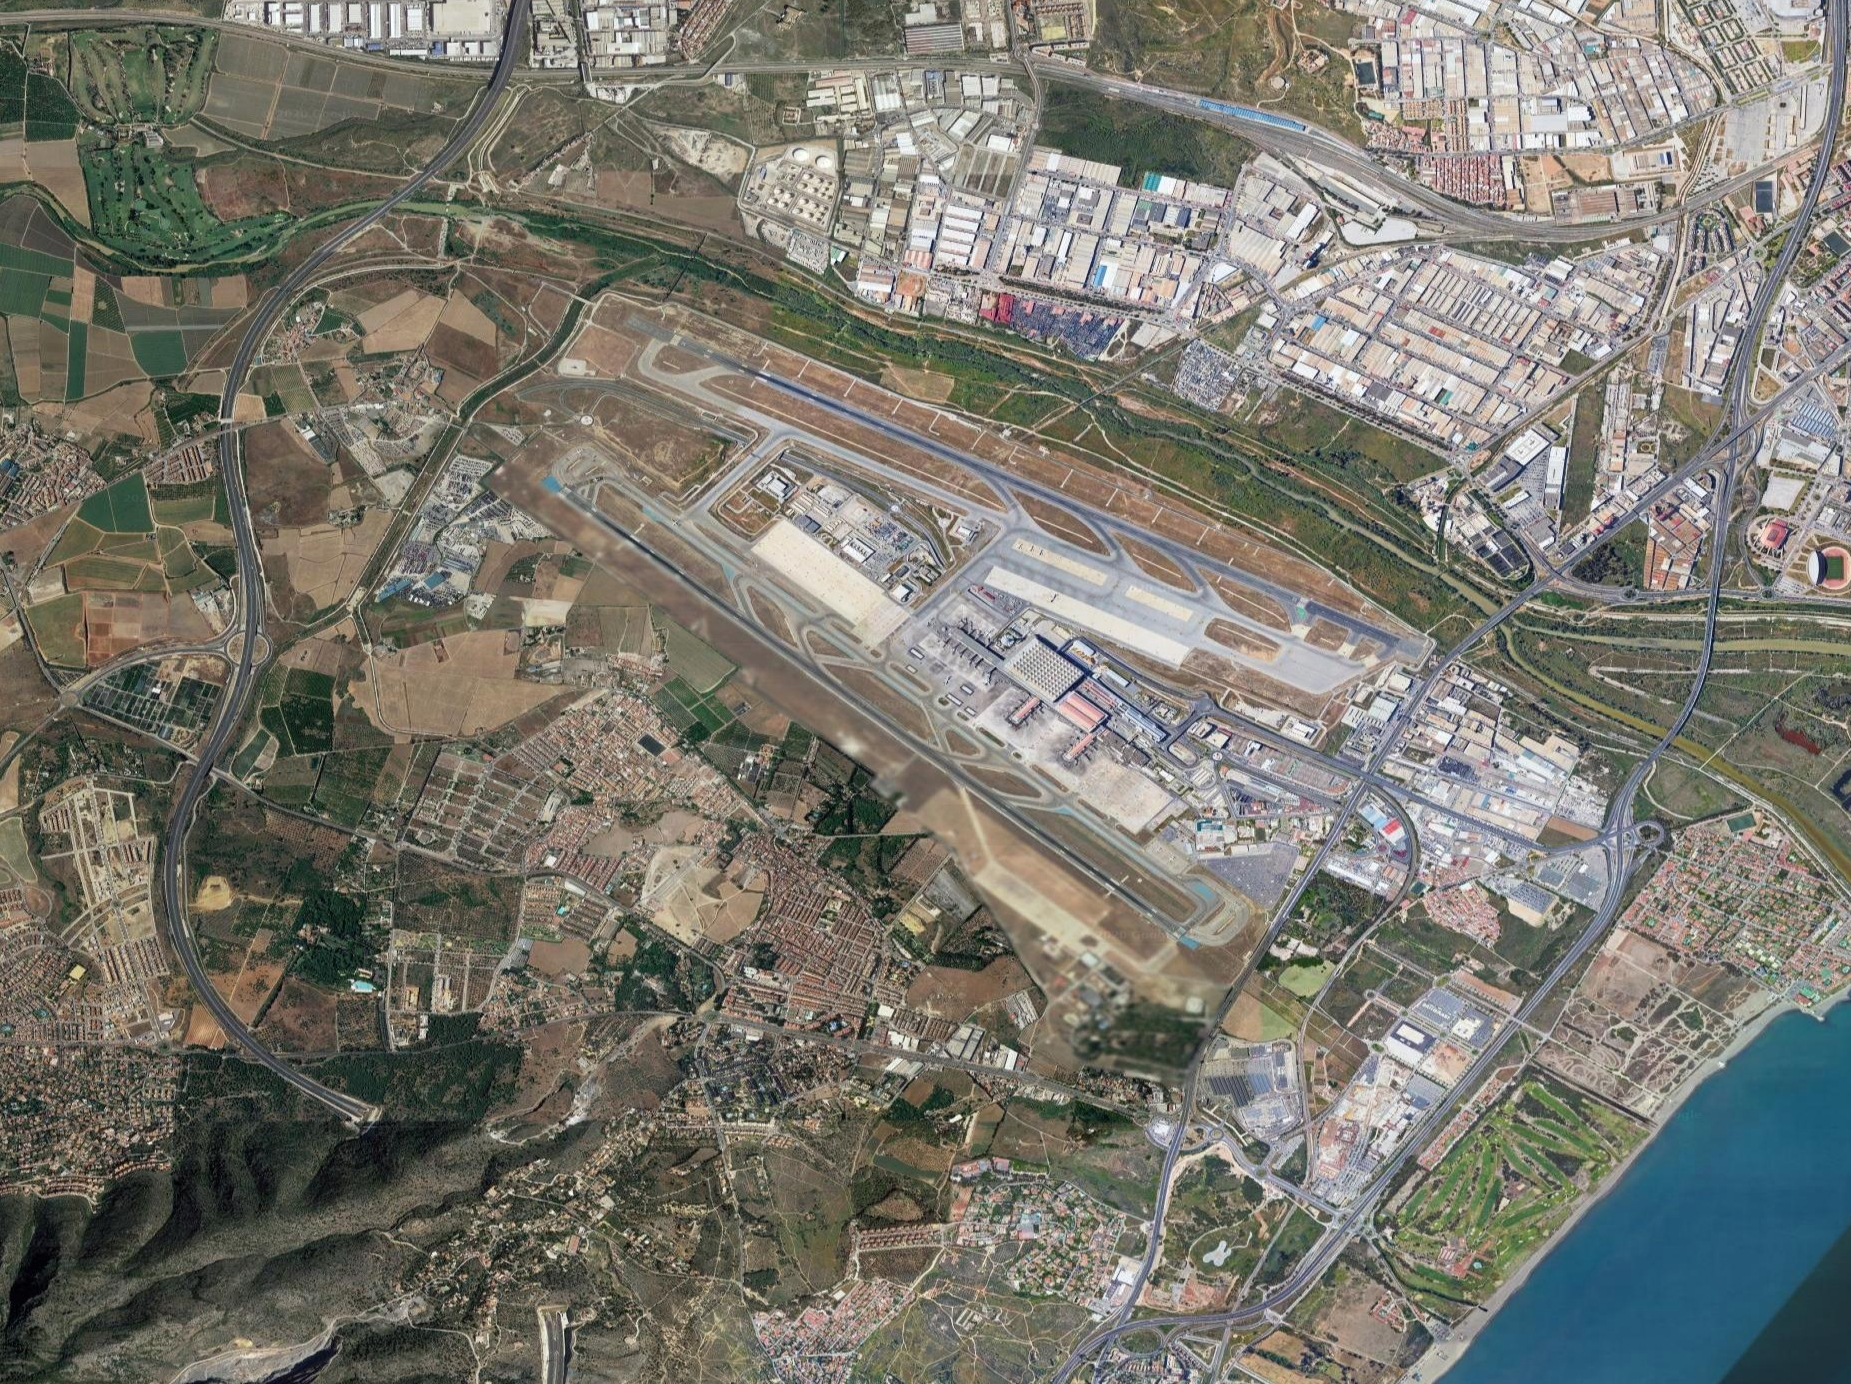airport: (534, 304, 1437, 951)
motorway: (443, 1, 534, 144), (172, 651, 256, 802), (1175, 1253, 1316, 1340), (340, 142, 449, 241), (228, 236, 337, 333), (1050, 1300, 1173, 1383), (1136, 1109, 1189, 1295), (1316, 1151, 1406, 1259), (1396, 1047, 1486, 1154), (1487, 946, 1578, 1054), (1566, 840, 1656, 948), (173, 952, 269, 1053), (1336, 144, 1457, 220), (259, 1045, 366, 1130), (217, 491, 276, 643), (205, 337, 265, 488), (1458, 204, 1655, 249), (1597, 728, 1672, 845), (1658, 619, 1732, 737), (1717, 269, 1786, 391), (145, 800, 196, 954), (1218, 100, 1341, 164), (1767, 163, 1834, 272), (1703, 390, 1759, 506), (1687, 504, 1742, 621), (1088, 73, 1218, 121), (893, 48, 1085, 79), (699, 49, 891, 79), (1658, 170, 1754, 227), (1819, 1, 1851, 166), (321, 36, 443, 79), (1, 1, 193, 28), (445, 48, 571, 84), (201, 10, 318, 48), (577, 45, 699, 81)
